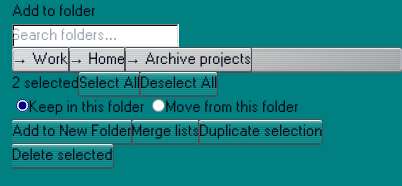
Test case: SelectionToolbar folder search › shows an empty state when nothing matches
The image size is (402, 186).
Type "zzzz" into the search field labelled "Search folders" at (96, 36), box [12,24,179,48]
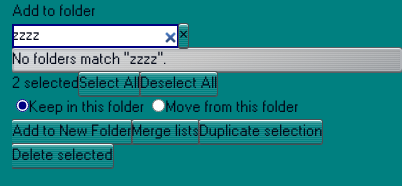
Expected: the text "No folders match “zzzz”." is shown, [12,52,166,67]
